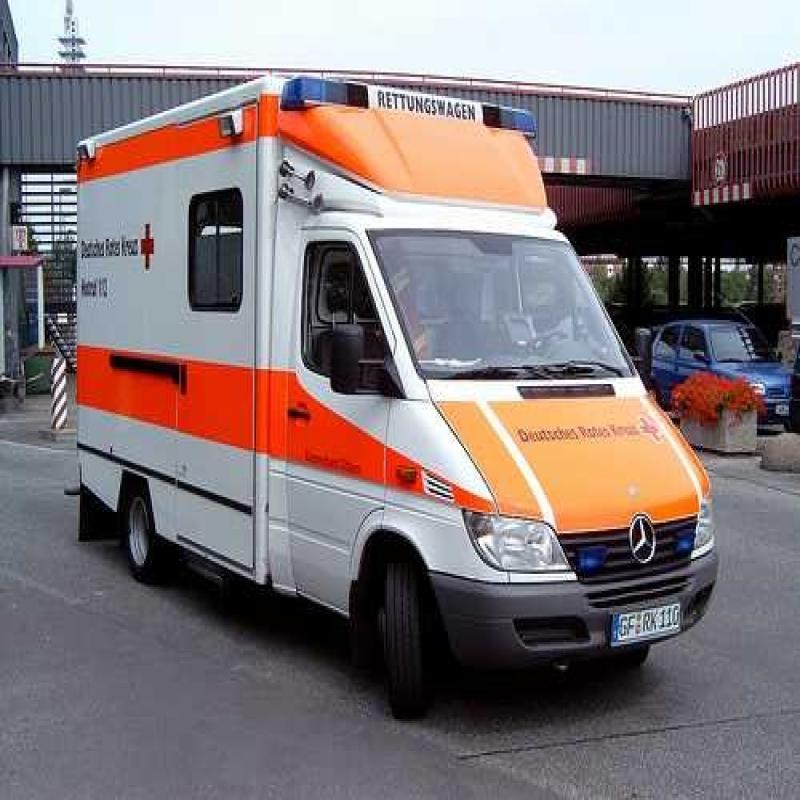AmbulanceSiren: (284, 62, 551, 150)
